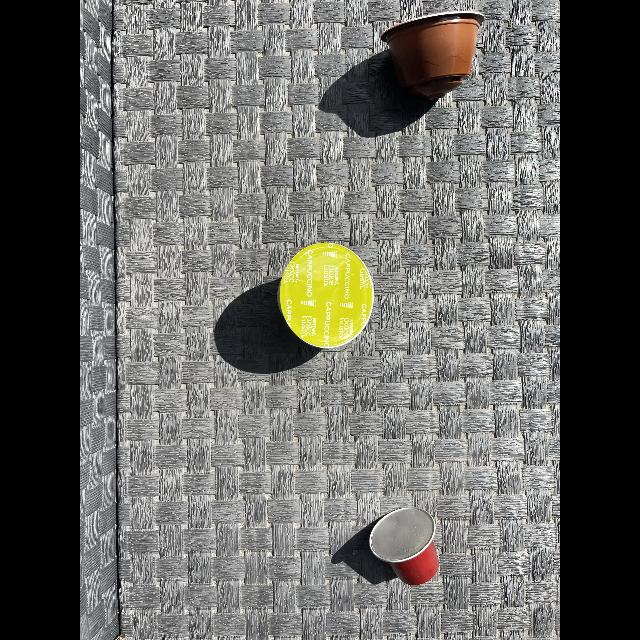intact_capsule: (276, 232, 388, 360), (372, 2, 498, 100), (362, 502, 458, 594)
